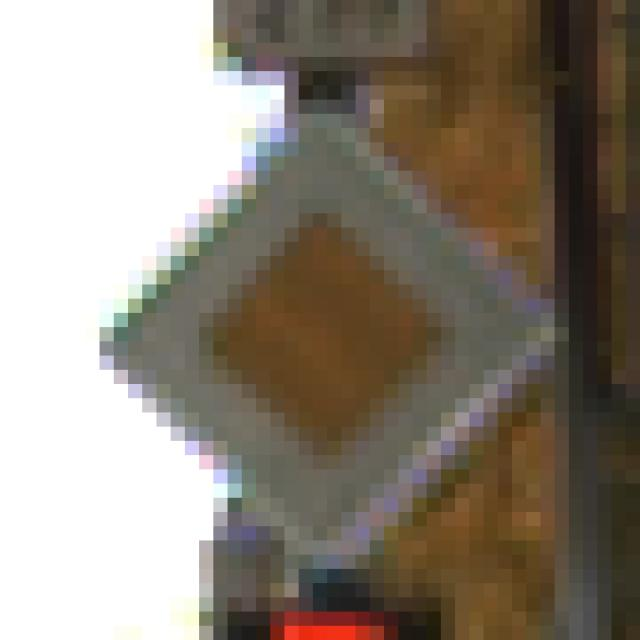Main Road: (86, 86, 570, 570)
